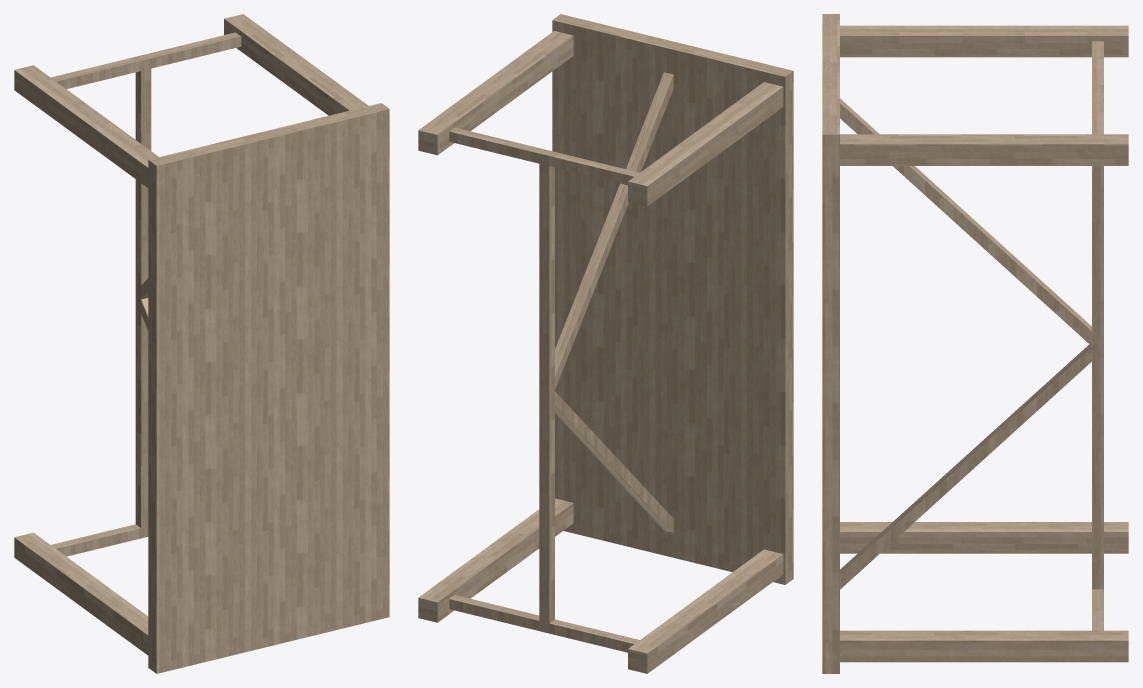
File: bar_table.gltf
3 views of the same model, side by side, from view 1: azimuth 30°, elevation 25°; view 2: azimuth 150°, elevation 25°; view 3: azimuth 270°, elevation 25° (orthographic). The views are drawn at different scales.
Visible parts, largest first — view 1: bar_table; view 2: bar_table; view 3: bar_table.
Part boxes in pixels (<box>): bar_table: <box>14,14,389,673</box>; bar_table: <box>418,14,793,673</box>; bar_table: <box>822,14,1128,673</box>.
Size of the model in its own units: 1.2 by 2.5 by 1.29.
Materials: 1 (1 with a texture image).
